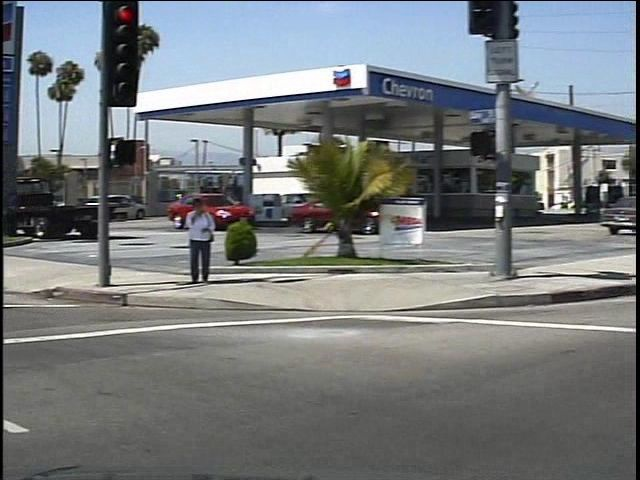person: (176, 194, 211, 290)
